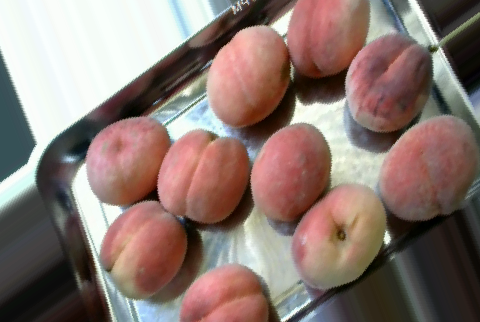Peach: (370, 114, 477, 221), (289, 184, 388, 288), (204, 22, 293, 125), (342, 34, 432, 133), (98, 201, 187, 300), (159, 129, 246, 226), (84, 115, 169, 207), (251, 126, 331, 222), (177, 265, 269, 322)
